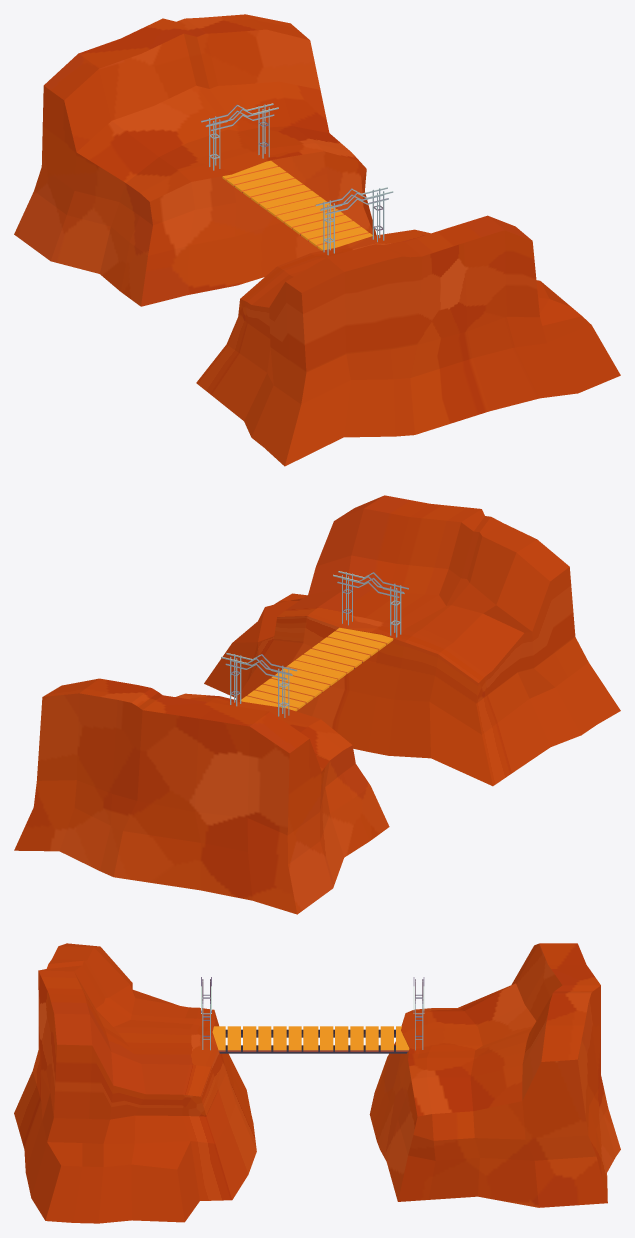
The model's file is scenery.glb.
3 views of the same model, one above another, from view 1: azimuth 30°, elevation 25°; view 2: azimuth 150°, elevation 25°; view 3: azimuth 270°, elevation 25° (orthographic). The views are drawn at different scales.
Parts seen in each view (by area): view 1: cliff, cliff.001, bridge, bridge_entrace, bridge_entrace.001; view 2: cliff.001, cliff, bridge, bridge_entrace, bridge_entrace.001; view 3: cliff.001, cliff, bridge, bridge_entrace.
Boxes of the visible parts, x1,y1,x2,y2 form: cliff: [14, 14, 376, 306]; cliff.001: [196, 215, 620, 466]; bridge: [222, 160, 372, 250]; bridge_entrace: [201, 103, 278, 170]; bridge_entrace.001: [315, 187, 393, 255]; cliff.001: [204, 495, 620, 786]; cliff: [14, 678, 389, 914]; bridge: [241, 627, 393, 711]; bridge_entrace: [221, 653, 297, 717]; bridge_entrace.001: [333, 571, 408, 637]; cliff.001: [14, 943, 256, 1223]; cliff: [369, 943, 620, 1207]; bridge: [212, 1026, 409, 1053]; bridge_entrace: [413, 977, 424, 1050].
Bounding box in the file's own units: 26.98 × 13.45 × 43.91.
Materials: 2 (2 with a texture image).
